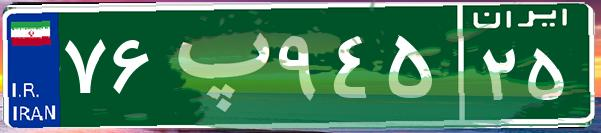2: (475, 38, 525, 113)
4: (330, 28, 385, 110)
5: (385, 28, 445, 110), (525, 38, 570, 115)
6: (110, 28, 158, 105)
7: (57, 26, 110, 107)
9: (273, 28, 330, 110)
پ: (158, 15, 273, 115)
